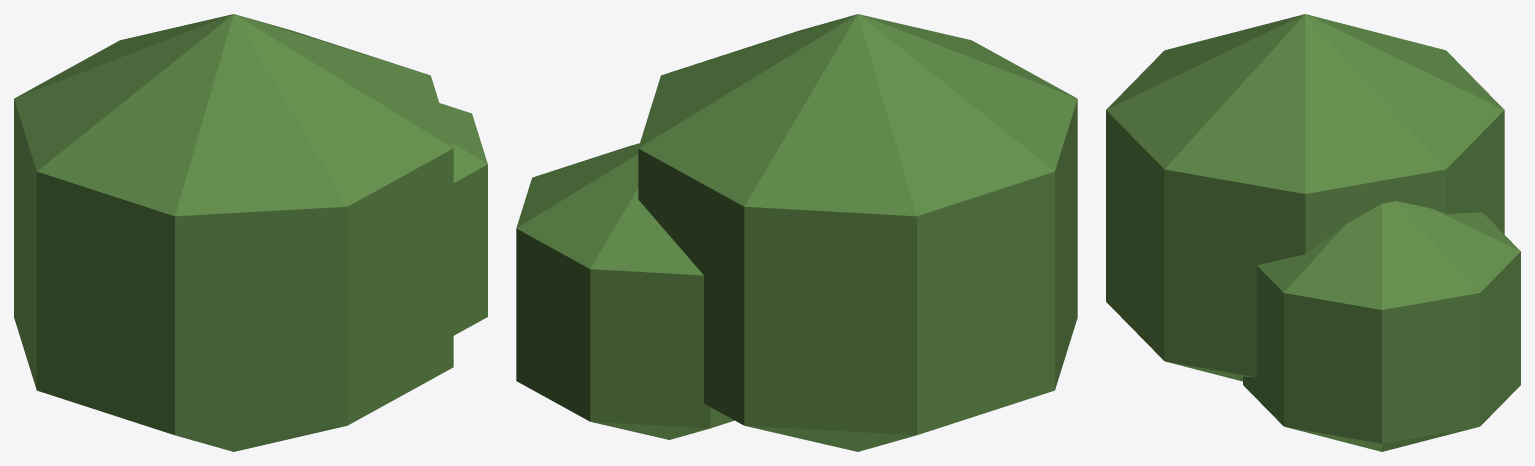
The model's file is shrub.glb.
3 renders of one model, left to right at view 1: azimuth 30°, elevation 25°; view 2: azimuth 150°, elevation 25°; view 3: azimuth 270°, elevation 25°, orthographic. The views are drawn at different scales.
Parts seen in each view (by area): view 1: SM_ENV_shrub; view 2: SM_ENV_shrub; view 3: SM_ENV_shrub.
Boxes of the visible parts, bbox=[...] form: SM_ENV_shrub: bbox=[14, 14, 487, 451]; SM_ENV_shrub: bbox=[516, 14, 1077, 451]; SM_ENV_shrub: bbox=[1106, 14, 1520, 451].
Size of the model in its own units: 1.39 by 1.21 by 1.19.
